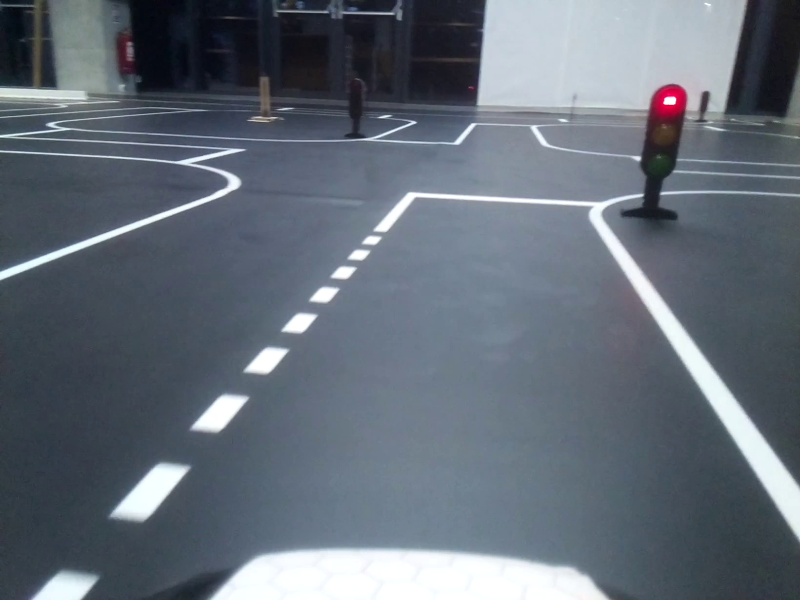traffic_red: (645, 84, 687, 175)
